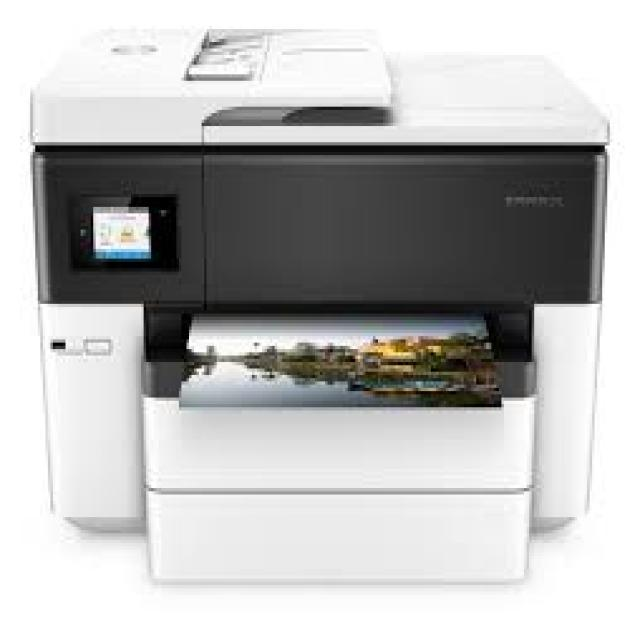printer: (23, 0, 640, 629)
